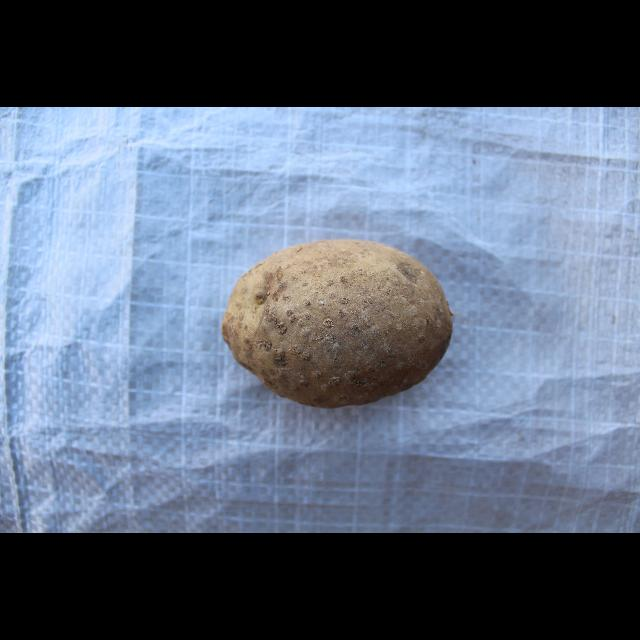Diseased-fungal potato: (218, 236, 454, 410)
